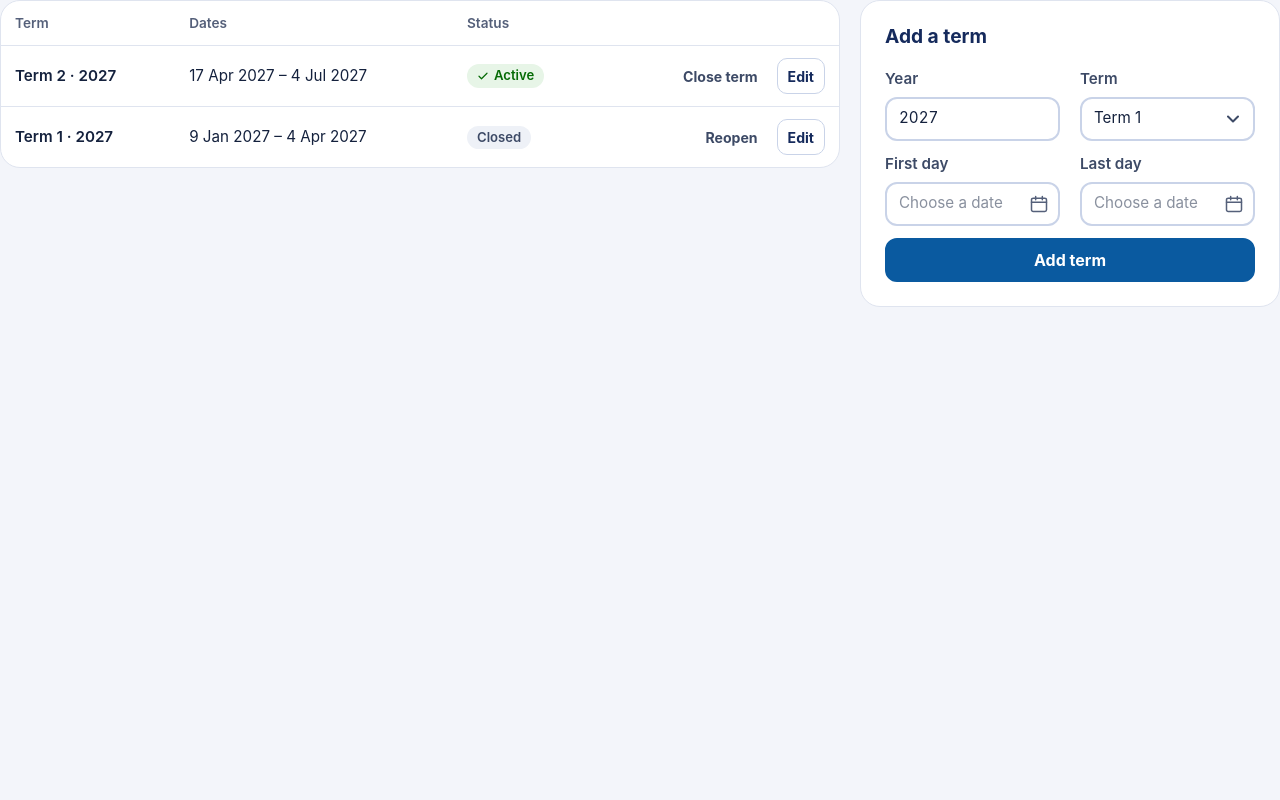
deleting a term (BR-23) › asks first, then deletes
Click the button with aria-label "Edit Term 2 · 2027" at (801, 76), box 777,58 -> 825,94
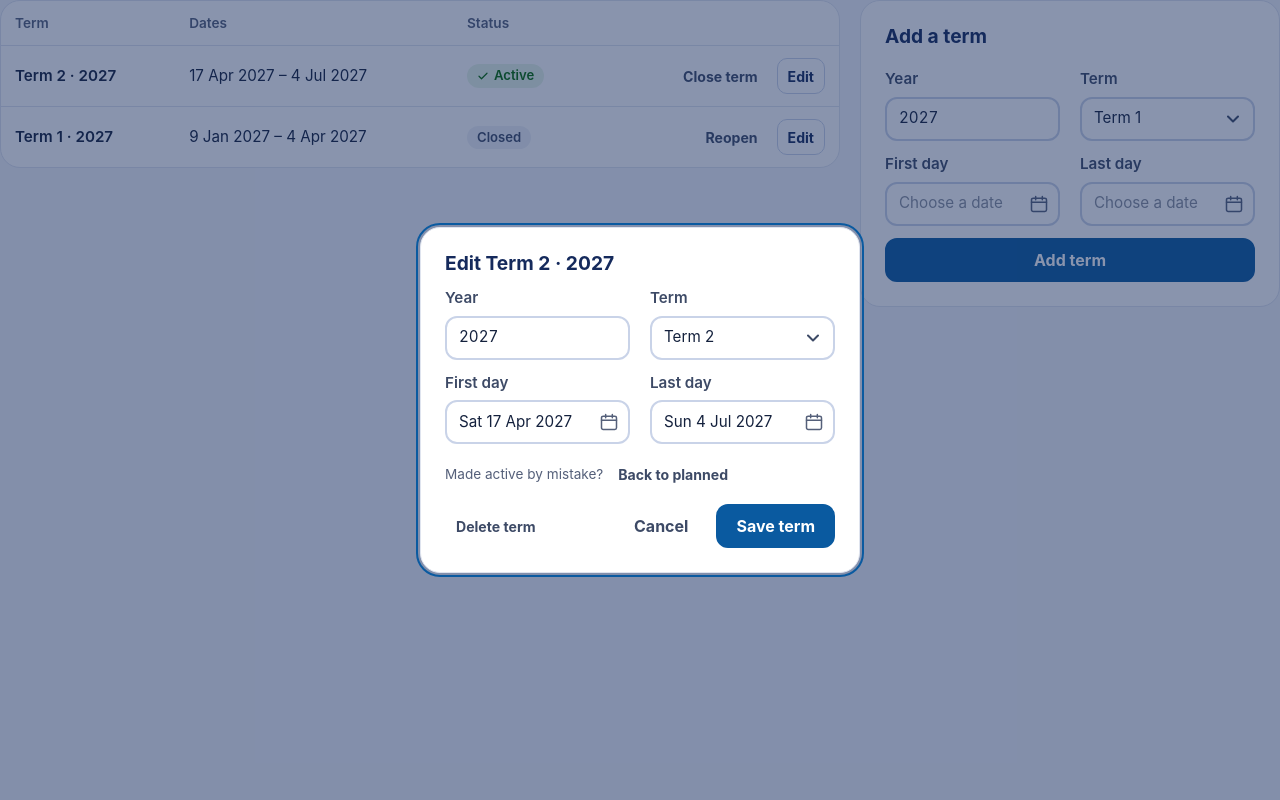
Click the button "Delete term" at (496, 526), box 445,508 -> 547,544
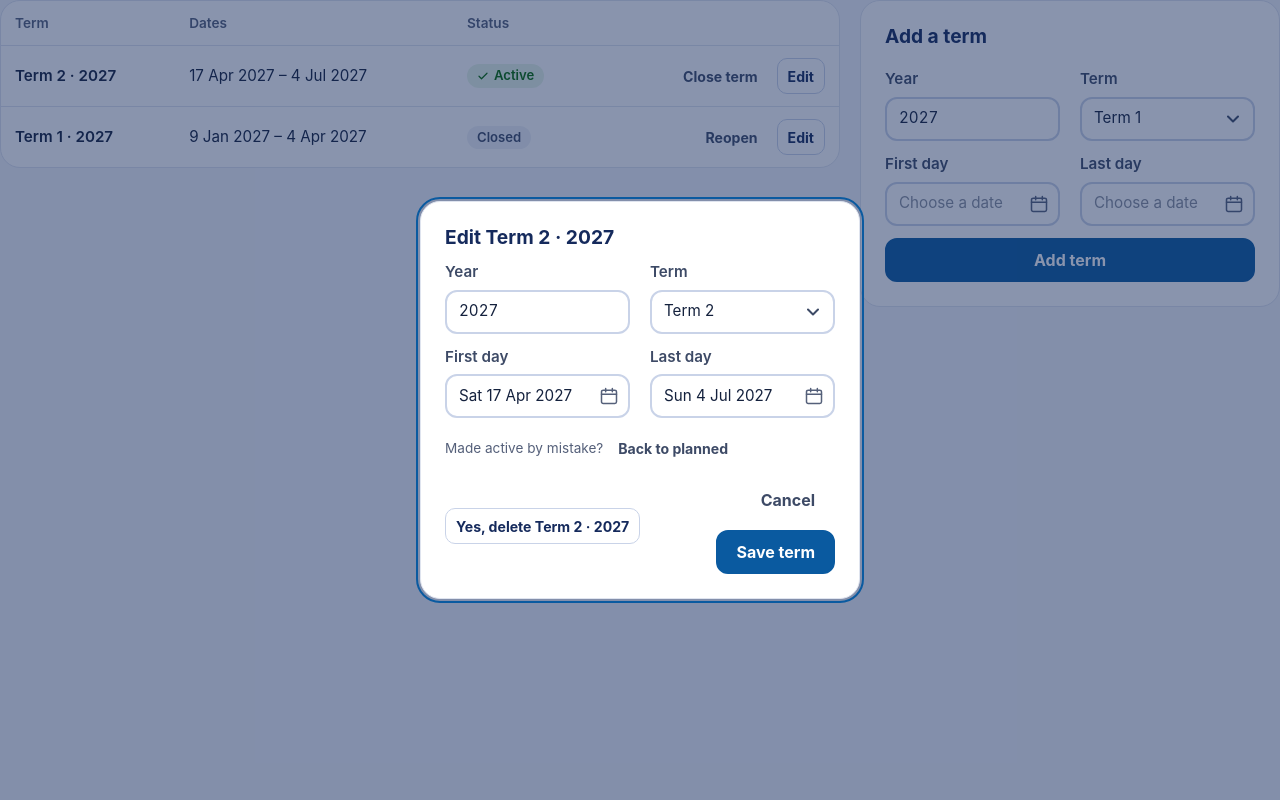
Click the button "Yes, delete Term 2 · 2027" at (543, 526), box 445,508 -> 640,544
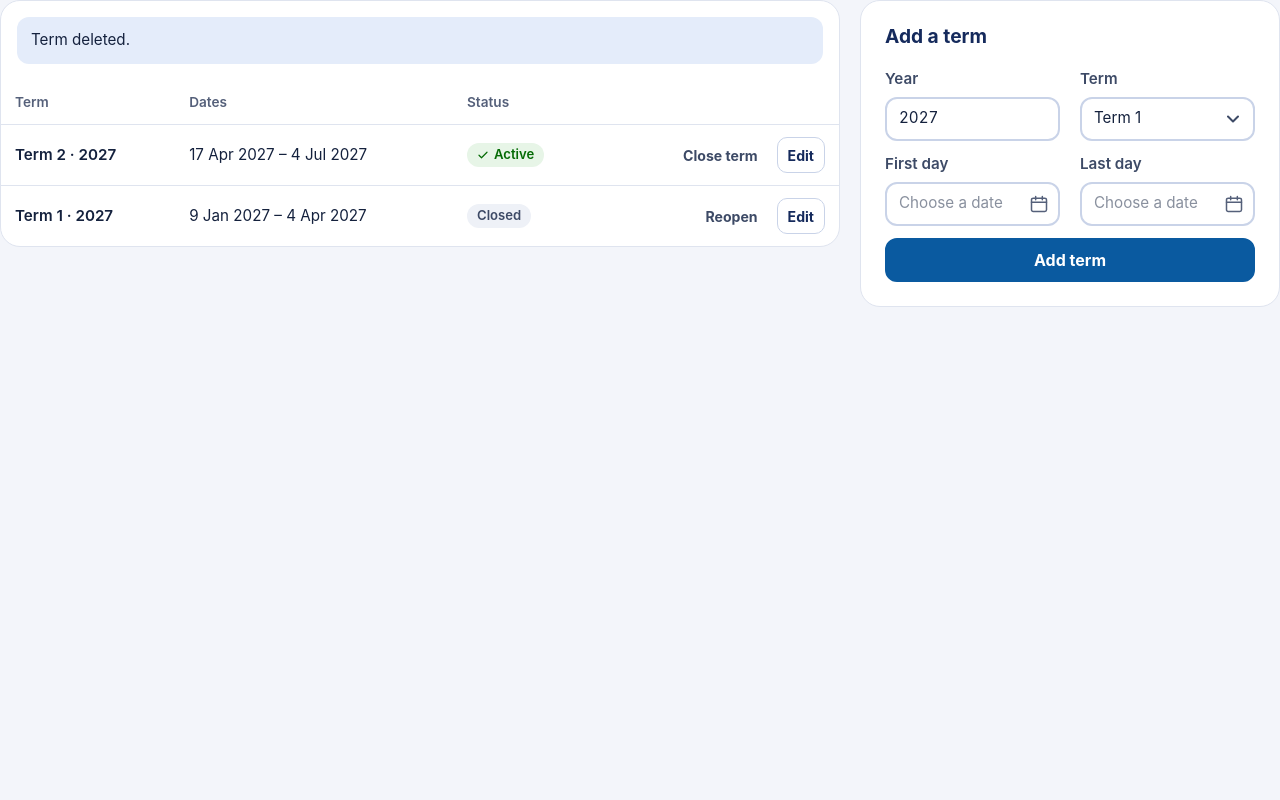
expect the message reads "Term deleted.": met, box 31,30 -> 130,49
